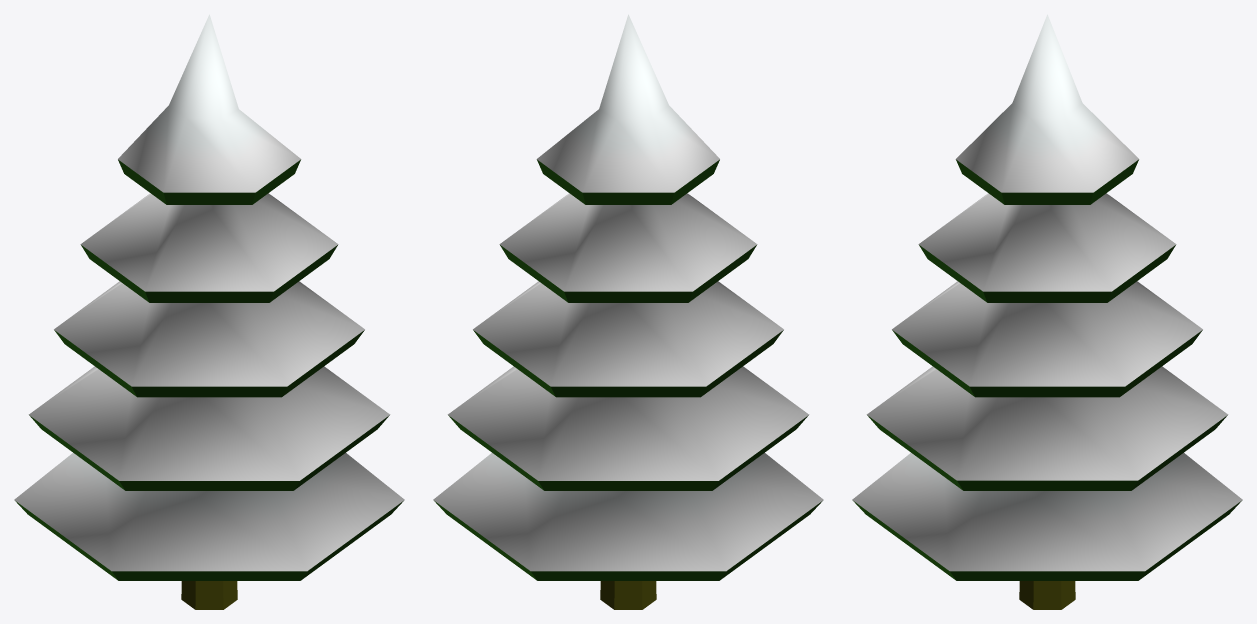
File: SnowPineTree.fbx
The picture shows the model from 3 angles, left to right: view 1: azimuth 30°, elevation 25°; view 2: azimuth 150°, elevation 25°; view 3: azimuth 270°, elevation 25°; orthographic projection.
Parts seen in each view (by area): view 1: SnowPineTree; view 2: SnowPineTree; view 3: SnowPineTree.
Part boxes in pixels (box(x1,y1,x2,y2)): SnowPineTree: box(14, 14, 404, 609); SnowPineTree: box(433, 14, 823, 609); SnowPineTree: box(852, 14, 1242, 609).
Bounding box in the file's own units: 240 × 459 × 277.
